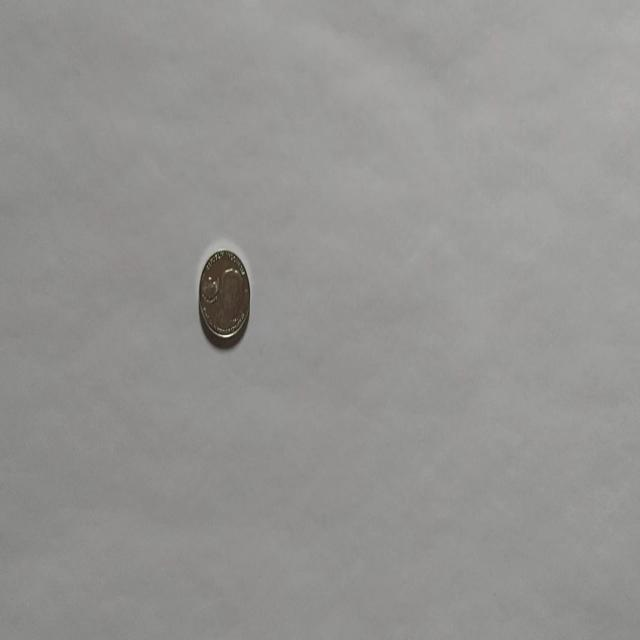seratus rupiah: (198, 247, 250, 345)
